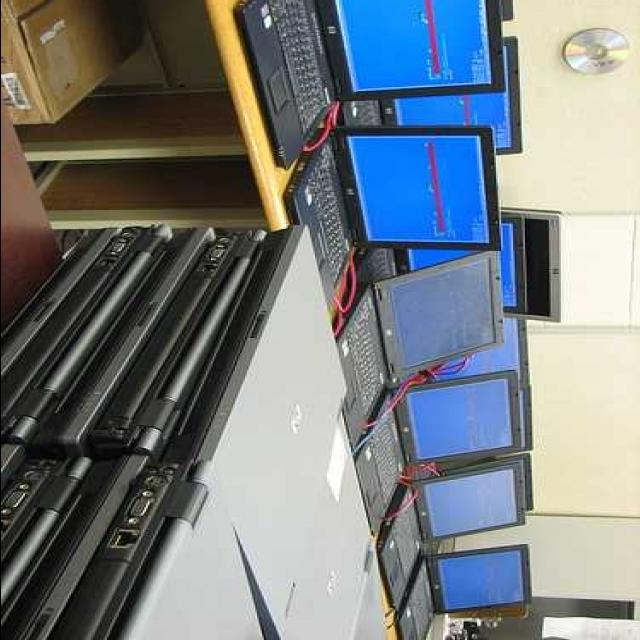laptop: (242, 2, 498, 166), (287, 123, 499, 300), (334, 247, 504, 445), (346, 368, 522, 534), (378, 458, 526, 628), (394, 543, 530, 640)
